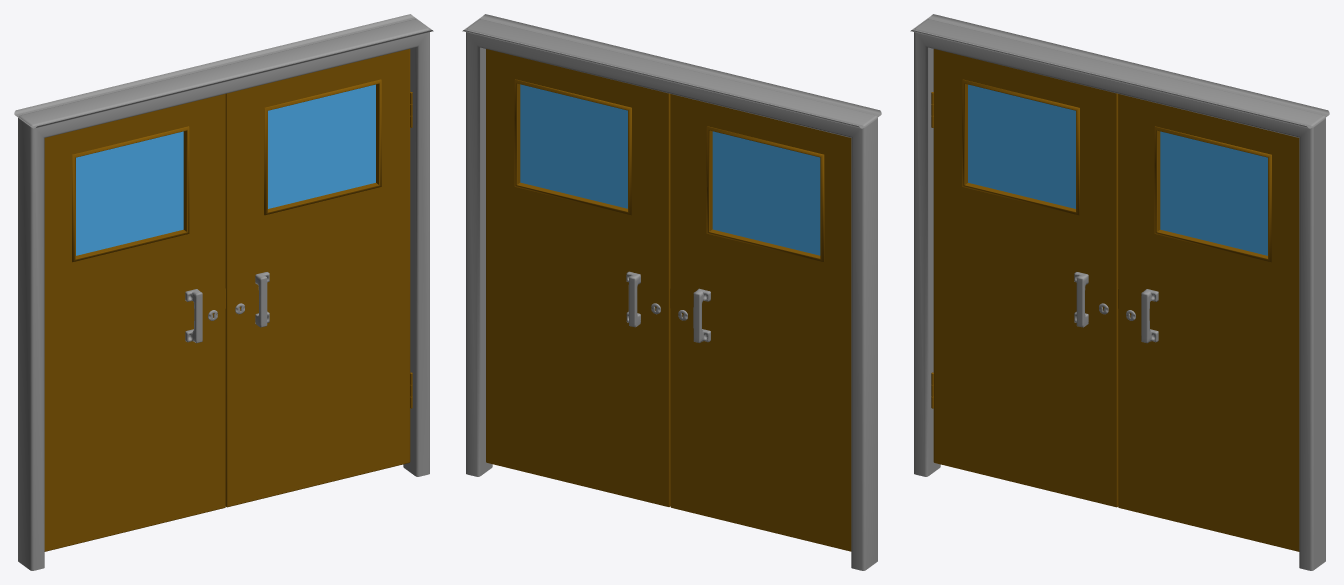
The model's file is Doors2.fbx.
3 views of the same model, side by side, from view 1: azimuth 30°, elevation 25°; view 2: azimuth 150°, elevation 25°; view 3: azimuth 330°, elevation 25° (orthographic).
Parts seen in each view (by area): view 1: R_2_2, L_2, FM_2_2; view 2: R_2_2, L_2, FM_2_2; view 3: L_2, R_2_2, FM_2_2.
Part boxes in pixels (x1,y1,x2,y2): R_2_2: [225, 49, 410, 507]; L_2: [44, 94, 225, 551]; FM_2_2: [14, 14, 433, 570]; R_2_2: [486, 49, 670, 506]; L_2: [670, 94, 851, 551]; FM_2_2: [462, 14, 881, 570]; L_2: [933, 49, 1118, 507]; R_2_2: [1118, 94, 1299, 551]; FM_2_2: [910, 14, 1329, 570].
Size of the model in its own units: 235 by 251 by 22.05.
